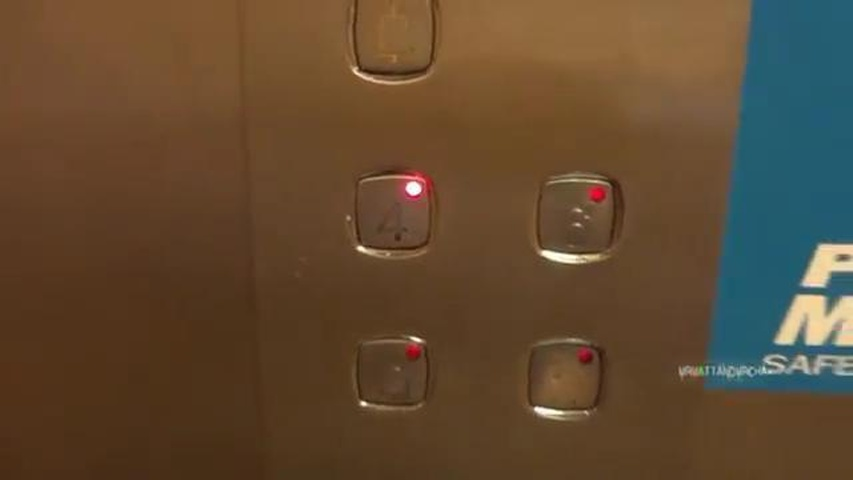4: (348, 164, 438, 263)
6: (524, 163, 628, 268)
alarm: (340, 1, 443, 89)
blur: (517, 328, 615, 426), (344, 327, 436, 415)
